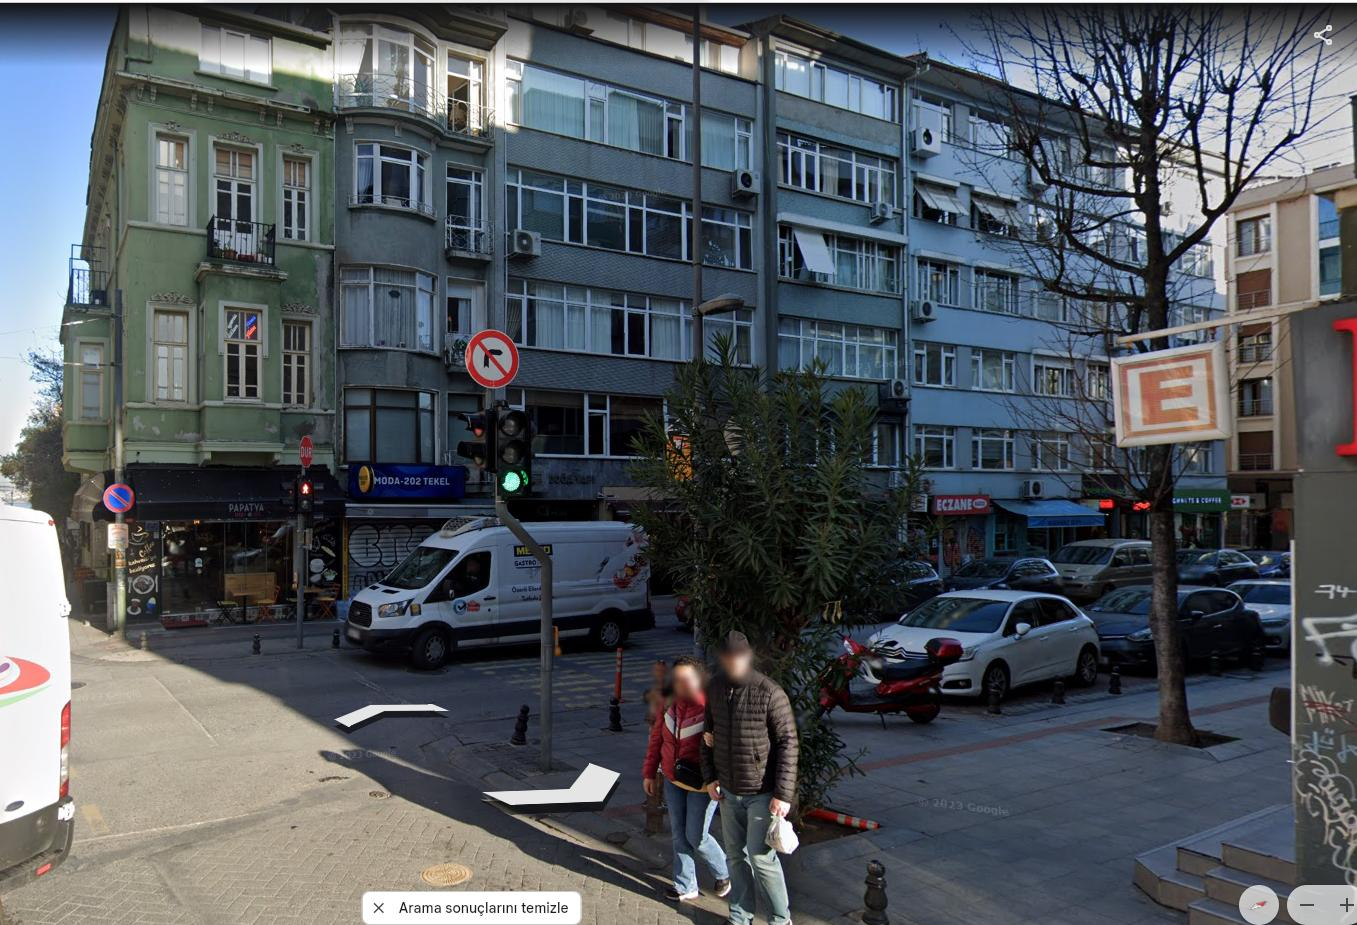greenlight: (496, 407, 529, 495)
rightturnsareforbidden: (467, 331, 517, 386)
